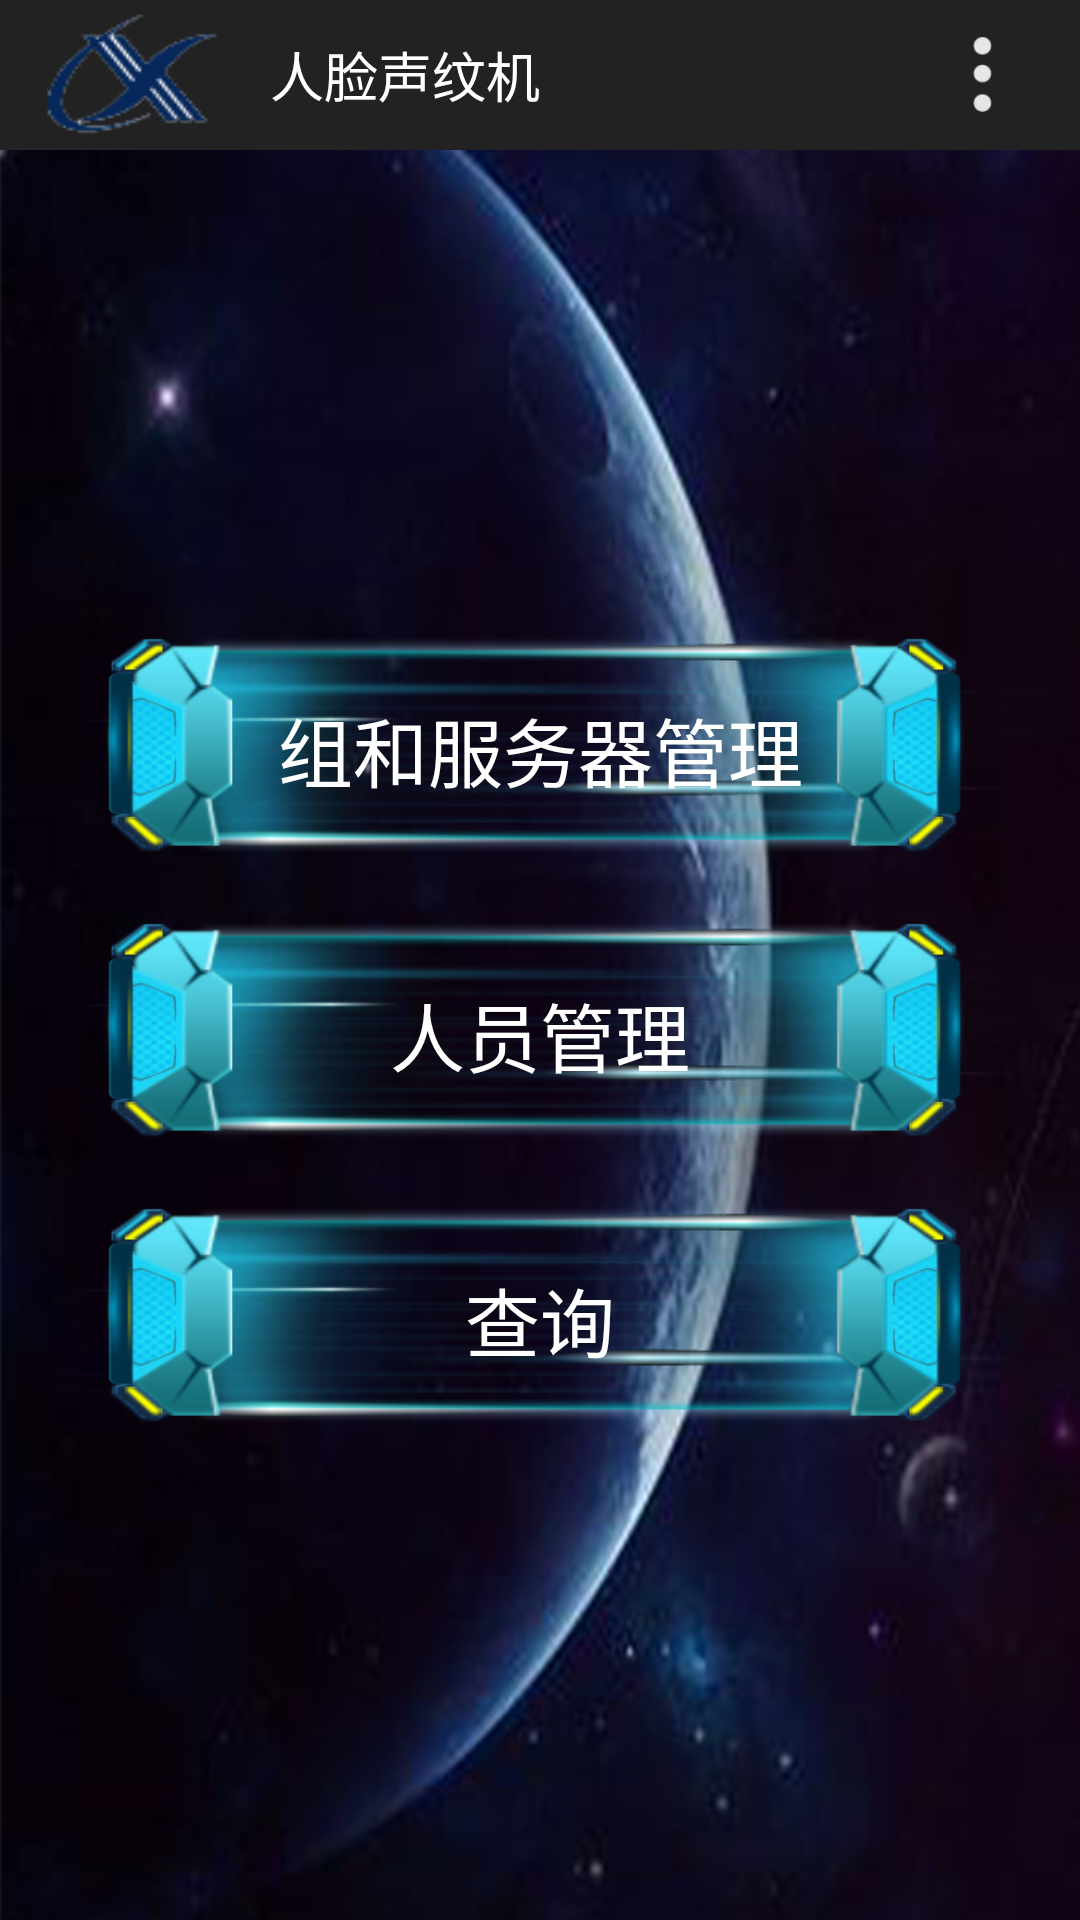

Icon click points for this 1080 × 1920 phone screenshot, format [x,y]:
more: [982,74]
